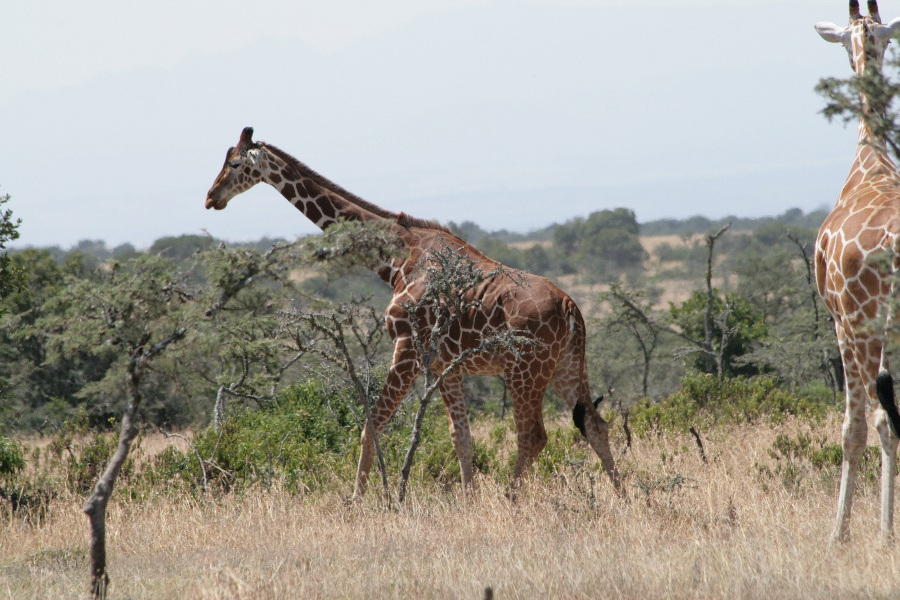giraffe: (200, 120, 635, 495), (809, 2, 899, 562)
